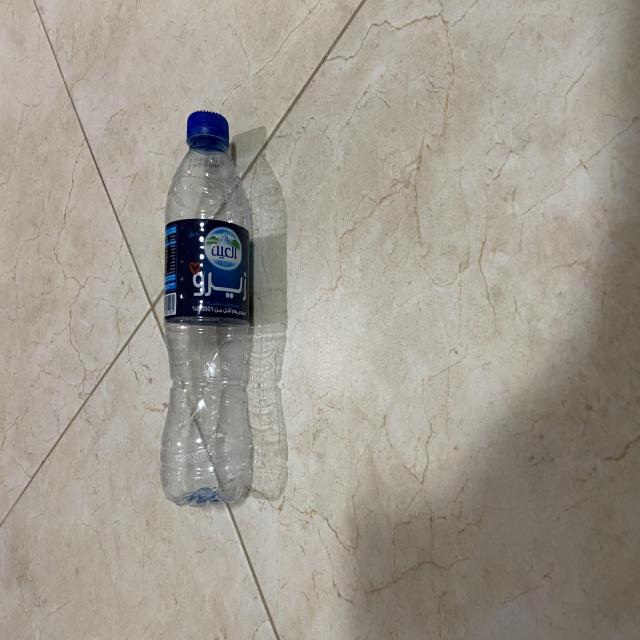bottle: (159, 95, 266, 521)
